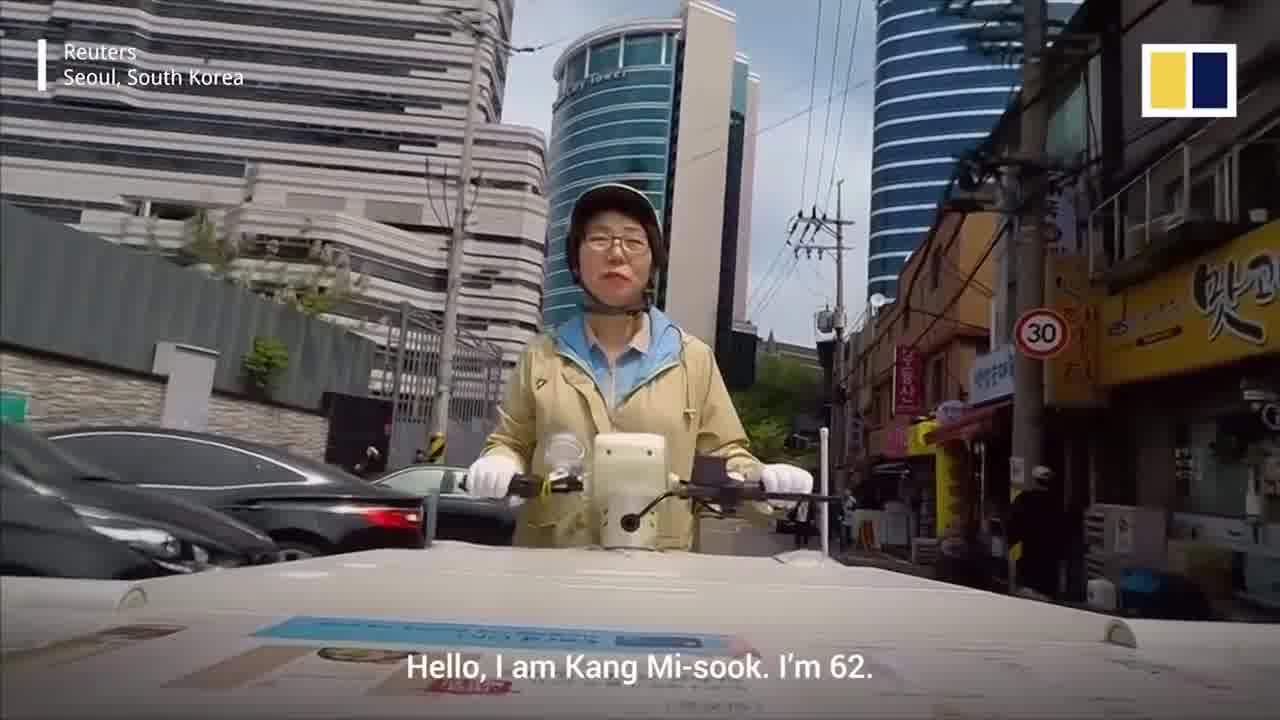Yakurut: (436, 167, 810, 552)
